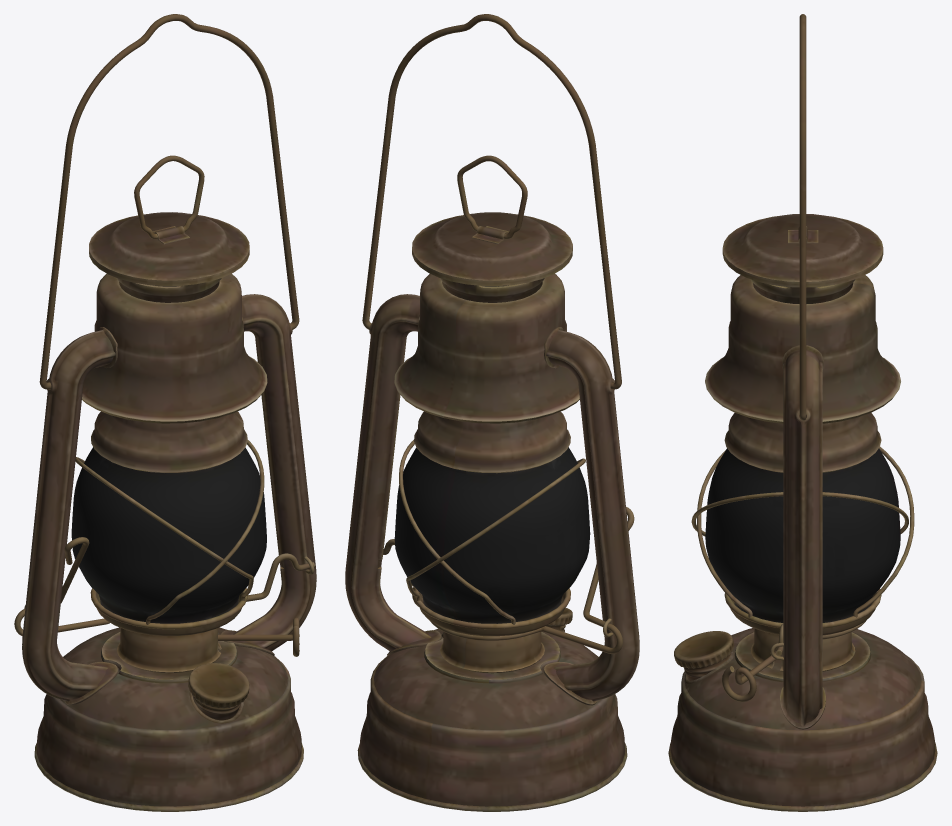
File: design-lantern-01.glb
The picture shows the model from 3 angles, left to right: view 1: azimuth 30°, elevation 25°; view 2: azimuth 150°, elevation 25°; view 3: azimuth 270°, elevation 25°; orthographic projection.
Visible parts, largest first — view 1: Lantern_01, Lantern_01_glass; view 2: Lantern_01, Lantern_01_glass; view 3: Lantern_01, Lantern_01_glass.
Boxes of the visible parts, x1,y1,x2,y2 form: Lantern_01: [14, 14, 316, 811]; Lantern_01_glass: [71, 447, 266, 623]; Lantern_01: [345, 14, 639, 811]; Lantern_01_glass: [394, 447, 590, 623]; Lantern_01: [668, 14, 937, 811]; Lantern_01_glass: [705, 448, 900, 622].
Size of the model in its own units: 0.1221 by 0.2942 by 0.0972.
Materials: 2 (2 with a texture image).
